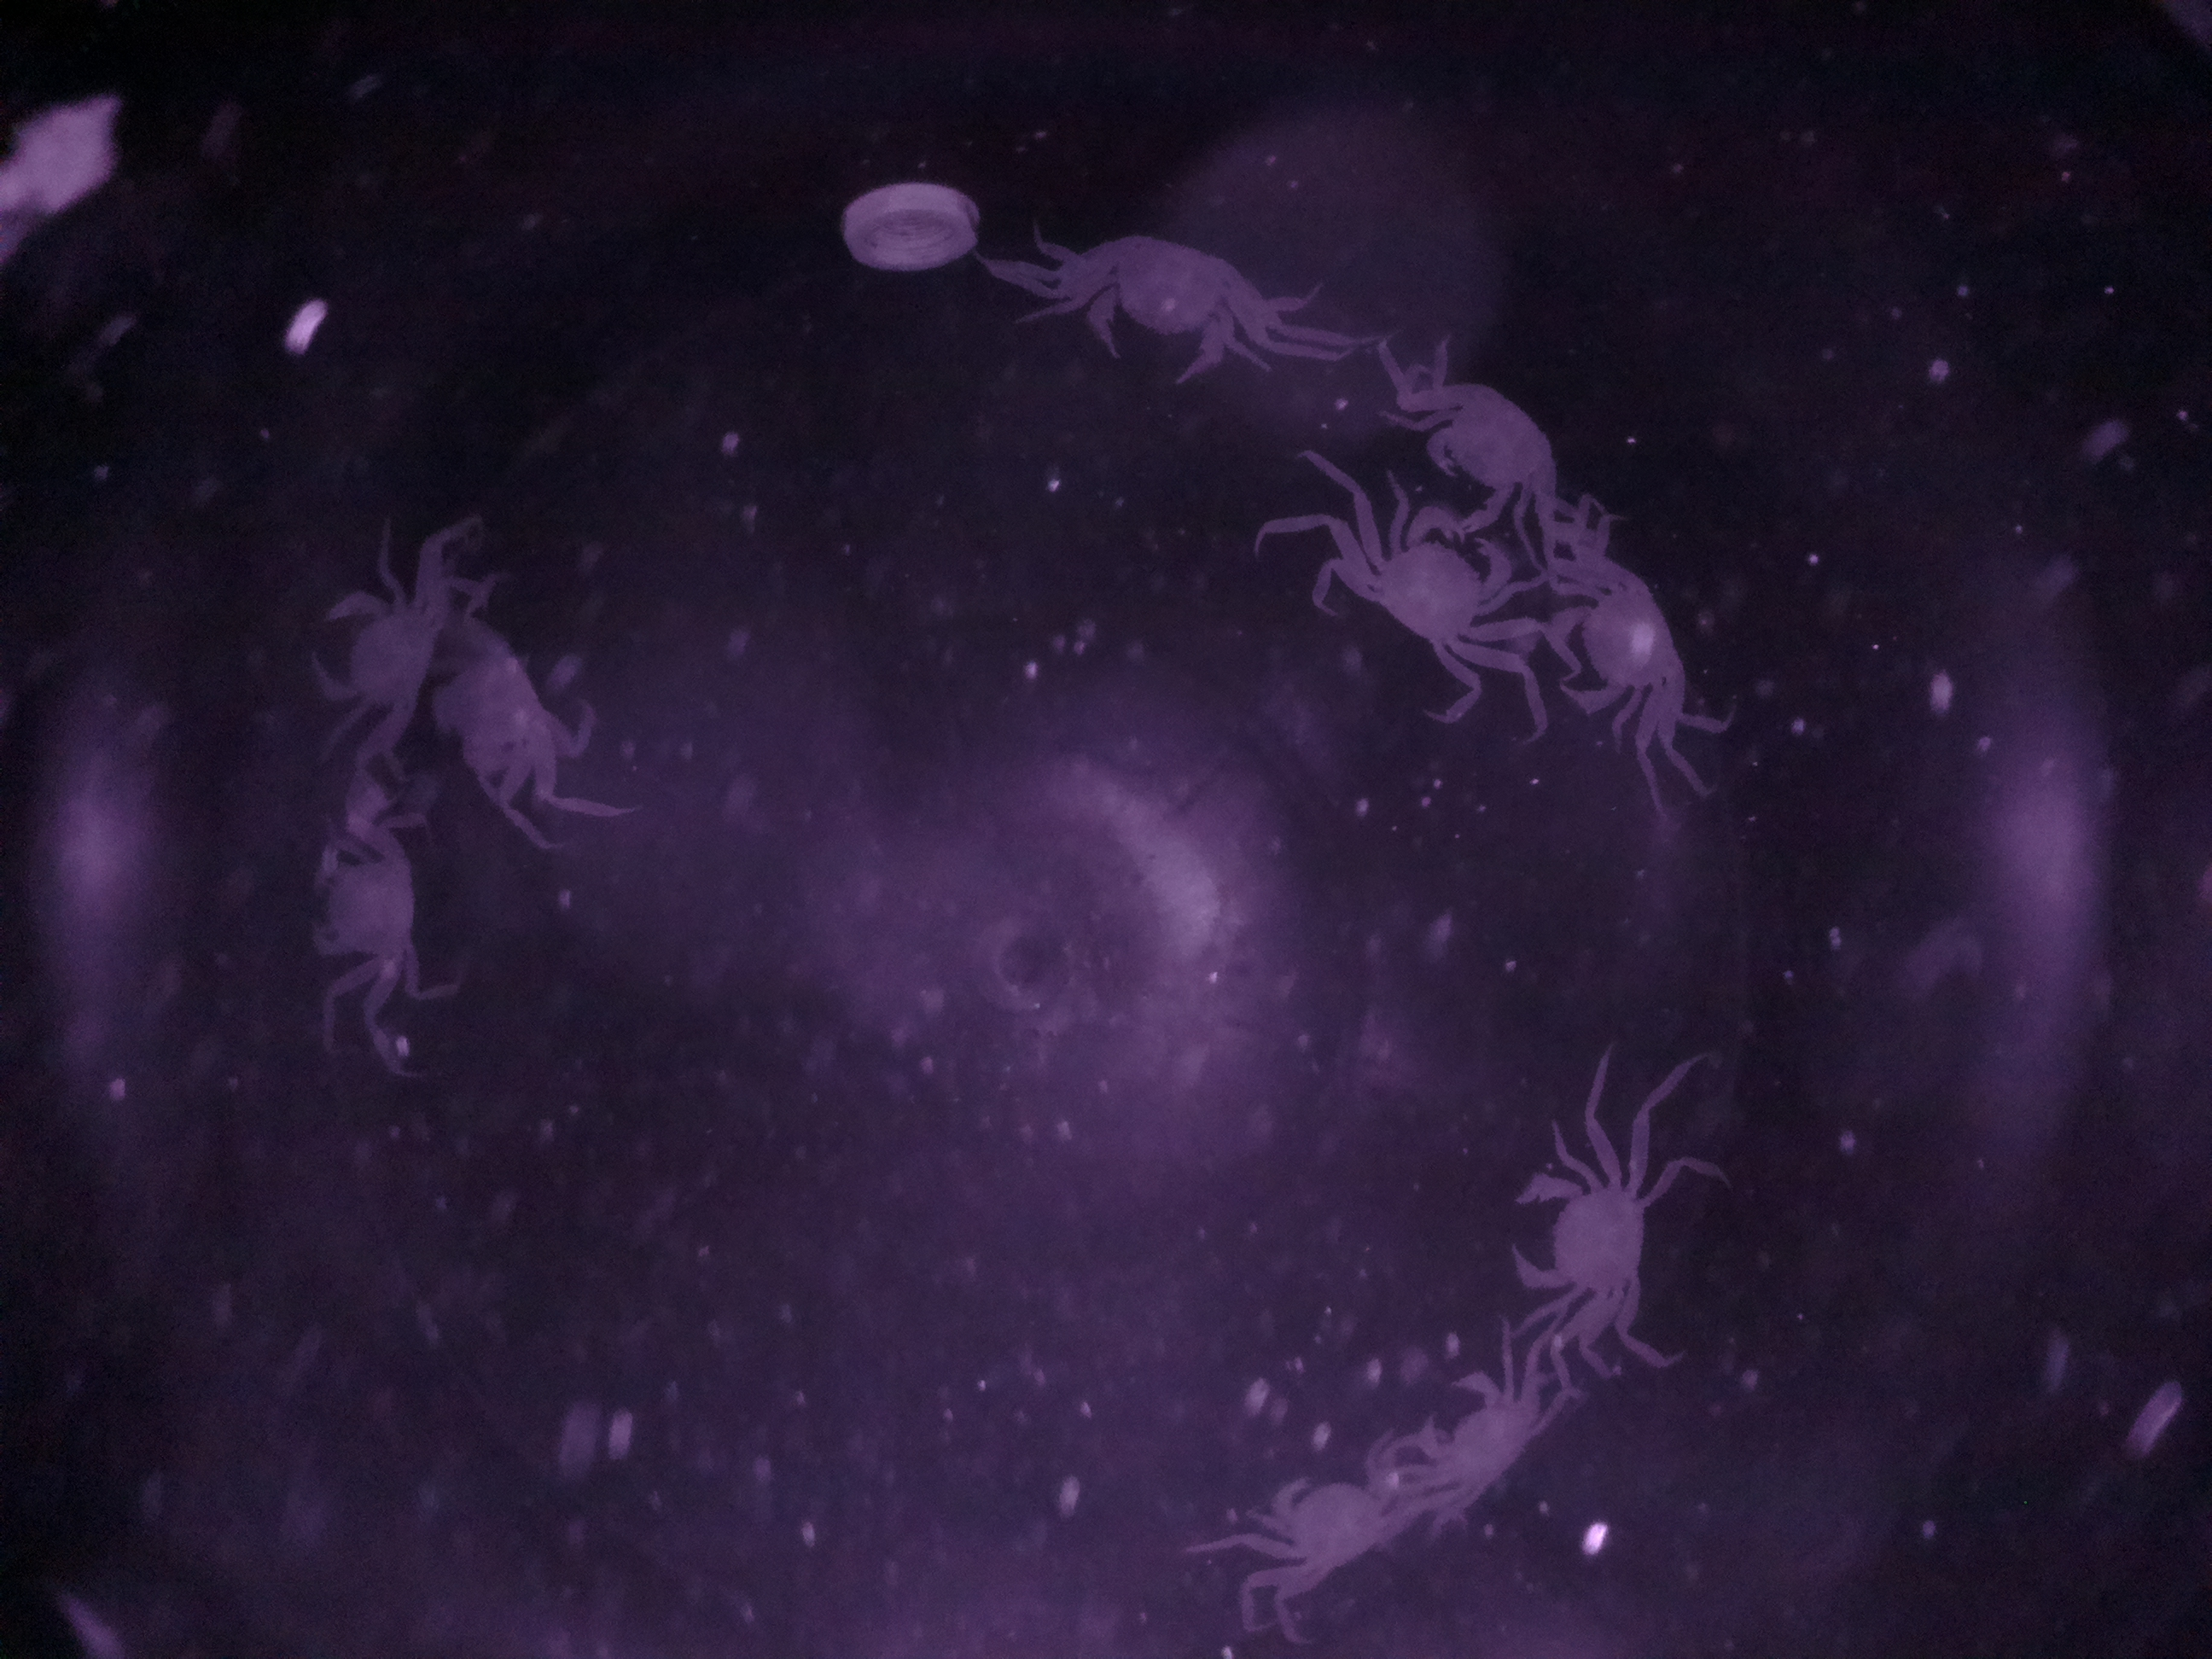Crab: (1057, 209, 1292, 404), (1501, 1121, 1670, 1337), (1531, 549, 1716, 746), (1360, 498, 1515, 685), (1402, 361, 1564, 532)
